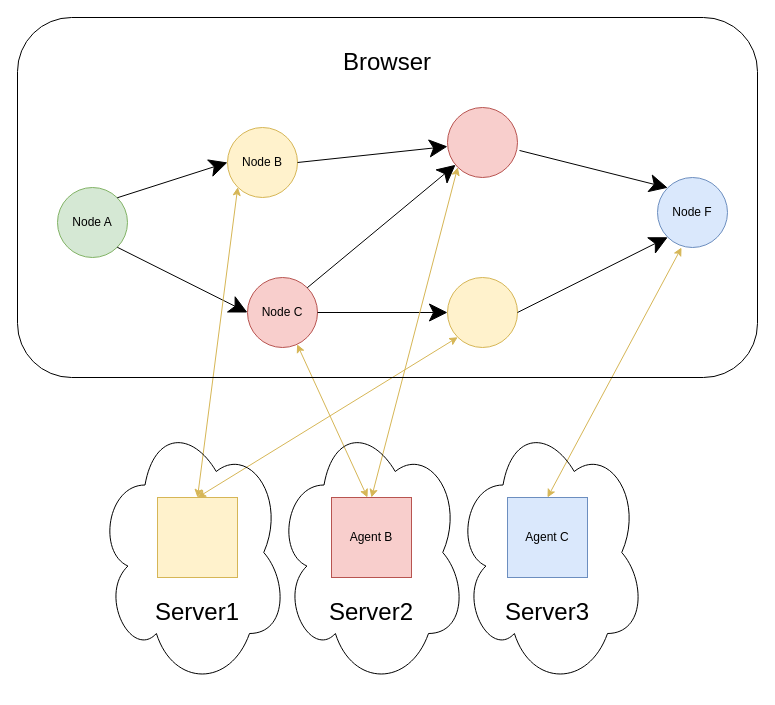
The diagram is 775 pixels wide and 705 high, and some of its shapes have lost their labels. Here are the shapes that lost their labels. From the top down, the box of each, then its label:
(446, 106, 518, 178): Node D
(446, 276, 518, 348): Node E
(156, 496, 238, 578): Agent A
